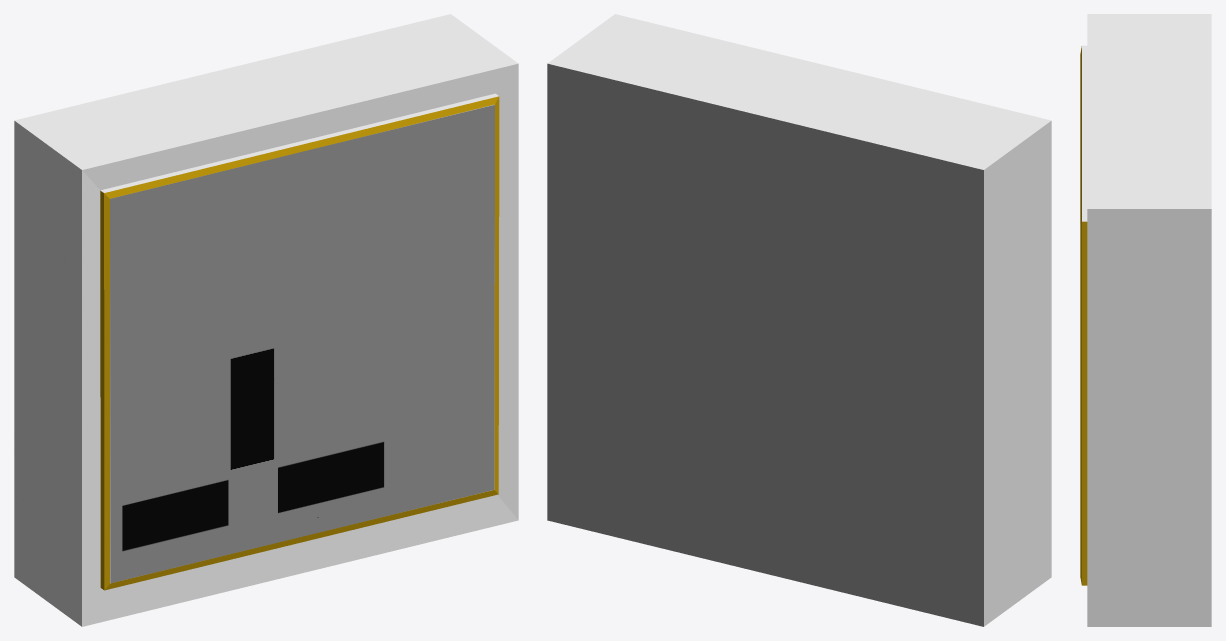
File: 插线板5.fbx
3 renders of one model, left to right at view 1: azimuth 30°, elevation 25°; view 2: azimuth 150°, elevation 25°; view 3: azimuth 270°, elevation 25°, orthographic. The views are drawn at different scales.
Parts seen in each view (by area): view 1: 立方体; view 2: 立方体; view 3: 立方体.
Part boxes in pixels (left/top/right/bottom): 立方体: left=14, top=14, right=518, bottom=626; 立方体: left=547, top=14, right=1051, bottom=626; 立方体: left=1080, top=14, right=1211, bottom=626.
Bounding box in the file's own units: 592 × 592 × 168.
1 material, 1 textured.
